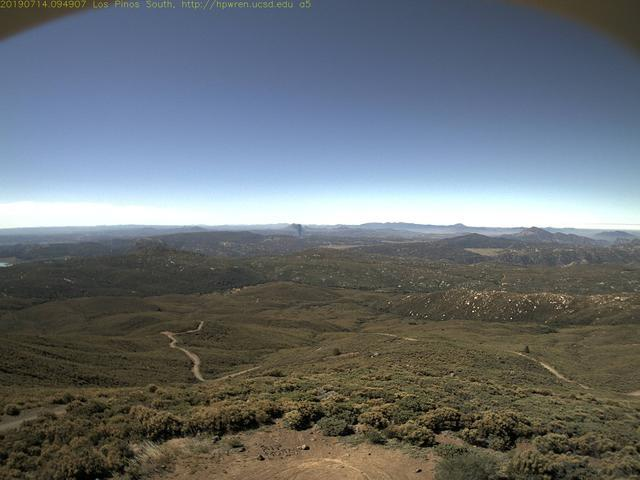smoke: (286, 218, 308, 242)
